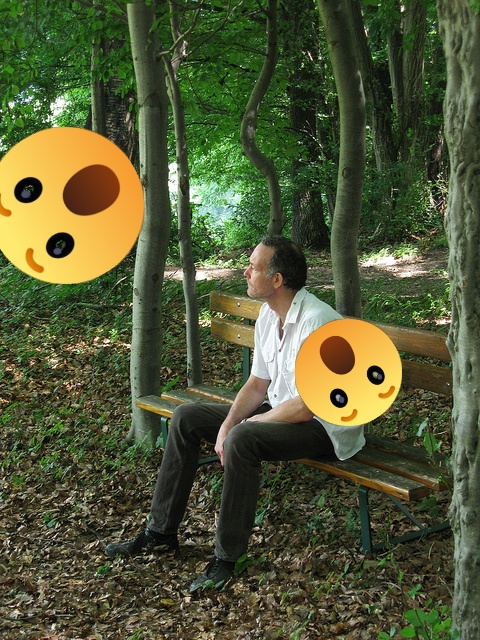wow: (0, 127, 144, 284), (295, 319, 402, 426)
